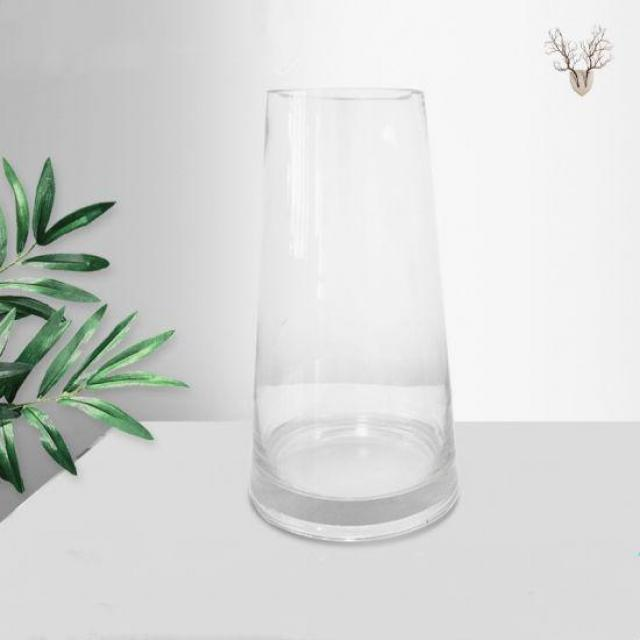non-organic waste: (248, 76, 465, 546)
